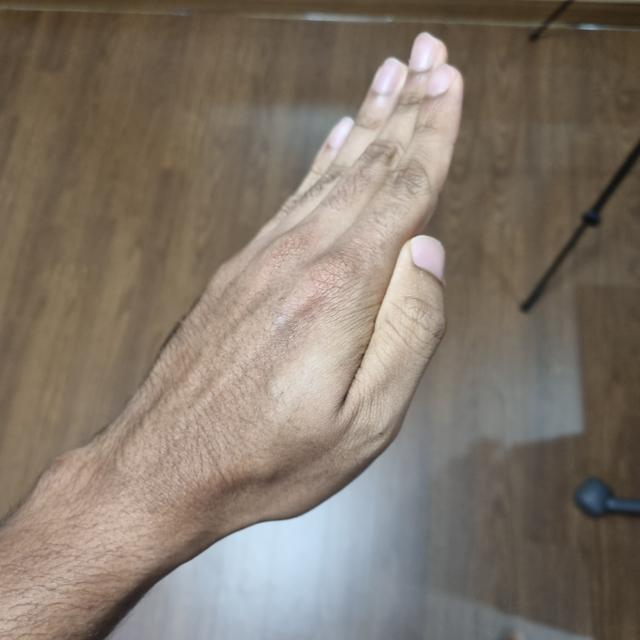Paper: (130, 33, 463, 525)
